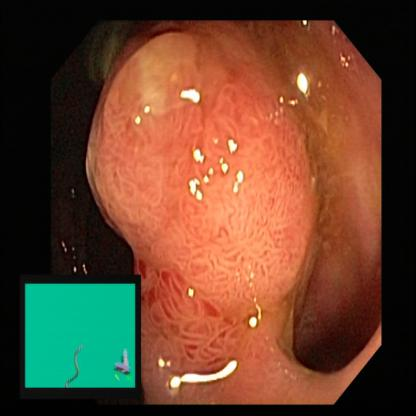Labels: (27, 276, 140, 402)
Polyps: (93, 50, 313, 293)
